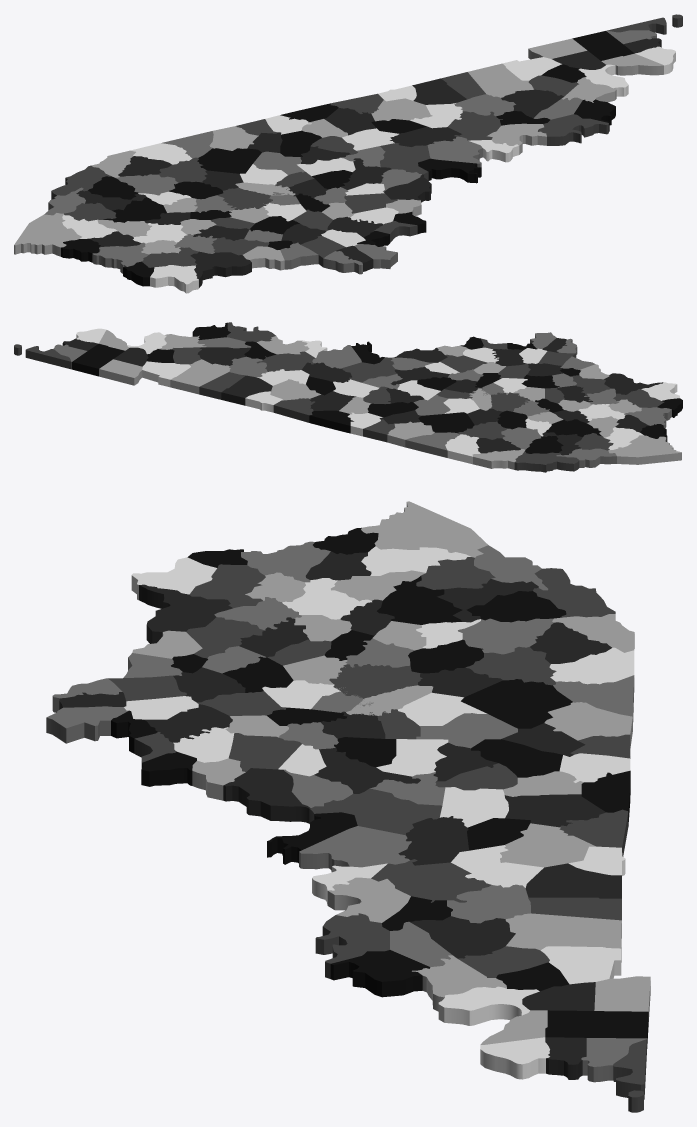
The model's file is Kentucky_Counties_3D.fbx.
3 views of the same model, one above another, from view 1: azimuth 30°, elevation 25°; view 2: azimuth 150°, elevation 25°; view 3: azimuth 270°, elevation 25° (orthographic). The views are drawn at different scales.
Parts seen in each view (by area): view 1: KY_Pike_County_3D, KY_Henderson_County_3D, KY_Lewis_County_3D, KY_Christian_County_3D, KY_Pulaski_County_3D, KY_Hardin_County_3D, KY_Breckinridge_County_3D, KY_Ohio_County_3D, KY_Daviess_County_3D, KY_Meade_County_3D, KY_Greenup_County_3D, KY_Lawrence_County_3D (+88 smaller); view 2: KY_Pike_County_3D, KY_Christian_County_3D, KY_Harlan_County_3D, KY_Graves_County_3D, KY_Pulaski_County_3D, KY_Logan_County_3D, KY_McCreary_County_3D, KY_Calloway_County_3D, KY_Hardin_County_3D, KY_Trigg_County_3D, KY_Ohio_County_3D, KY_Bell_County_3D (+98 smaller); view 3: KY_Pike_County_3D, KY_Christian_County_3D, KY_Breckinridge_County_3D, KY_Pulaski_County_3D, KY_Jefferson_County_3D, KY_Hardin_County_3D, KY_Union_County_3D, KY_Ohio_County_3D, KY_Lewis_County_3D, KY_Graves_County_3D, KY_Livingston_County_3D, KY_Hopkins_County_3D (+102 smaller).
Boxes of the visible parts, x1=… form: KY_Pike_County_3D: x1=14, y1=213, x2=81, y2=256; KY_Henderson_County_3D: x1=538, y1=114, x2=608, y2=145; KY_Lewis_County_3D: x1=190, y1=251, x2=251, y2=287; KY_Christian_County_3D: x1=468, y1=63, x2=533, y2=97; KY_Pulaski_County_3D: x1=197, y1=148, x2=261, y2=173; KY_Hardin_County_3D: x1=380, y1=143, x2=430, y2=180; KY_Breckinridge_County_3D: x1=427, y1=136, x2=482, y2=167; KY_Ohio_County_3D: x1=448, y1=111, x2=502, y2=140; KY_Daviess_County_3D: x1=487, y1=123, x2=546, y2=154; KY_Meade_County_3D: x1=418, y1=158, x2=481, y2=183; KY_Greenup_County_3D: x1=150, y1=265, x2=198, y2=293; KY_Lawrence_County_3D: x1=92, y1=242, x2=148, y2=273; KY_Pike_County_3D: x1=608, y1=435, x2=681, y2=464; KY_Christian_County_3D: x1=170, y1=359, x2=230, y2=394; KY_Harlan_County_3D: x1=514, y1=451, x2=579, y2=472; KY_Graves_County_3D: x1=72, y1=344, x2=124, y2=376; KY_Pulaski_County_3D: x1=418, y1=412, x2=474, y2=432; KY_Logan_County_3D: x1=221, y1=375, x2=272, y2=405; KY_McCreary_County_3D: x1=405, y1=432, x2=459, y2=457; KY_Calloway_County_3D: x1=99, y1=359, x2=142, y2=385; KY_Hardin_County_3D: x1=341, y1=357, x2=396, y2=382; KY_Trigg_County_3D: x1=142, y1=361, x2=190, y2=387; KY_Ohio_County_3D: x1=256, y1=351, x2=315, y2=371; KY_Bell_County_3D: x1=472, y1=449, x2=525, y2=469; KY_Pike_County_3D: x1=361, y1=501, x2=487, y2=557; KY_Christian_County_3D: x1=505, y1=913, x2=621, y2=962; KY_Breckinridge_County_3D: x1=299, y1=826, x2=411, y2=871; KY_Pulaski_County_3D: x1=461, y1=679, x2=572, y2=728; KY_Jefferson_County_3D: x1=223, y1=768, x2=310, y2=823; KY_Hardin_County_3D: x1=309, y1=788, x2=442, y2=835; KY_Union_County_3D: x1=330, y1=950, x2=430, y2=997; KY_Ohio_County_3D: x1=371, y1=859, x2=491, y2=902; KY_Lewis_County_3D: x1=139, y1=584, x2=232, y2=643; KY_Graves_County_3D: x1=545, y1=1010, x2=648, y2=1048; KY_Livingston_County_3D: x1=438, y1=986, x2=539, y2=1025; KY_Hopkins_County_3D: x1=409, y1=916, x2=515, y2=958.
Size of the model in its own units: 836 by 10 by 358.
